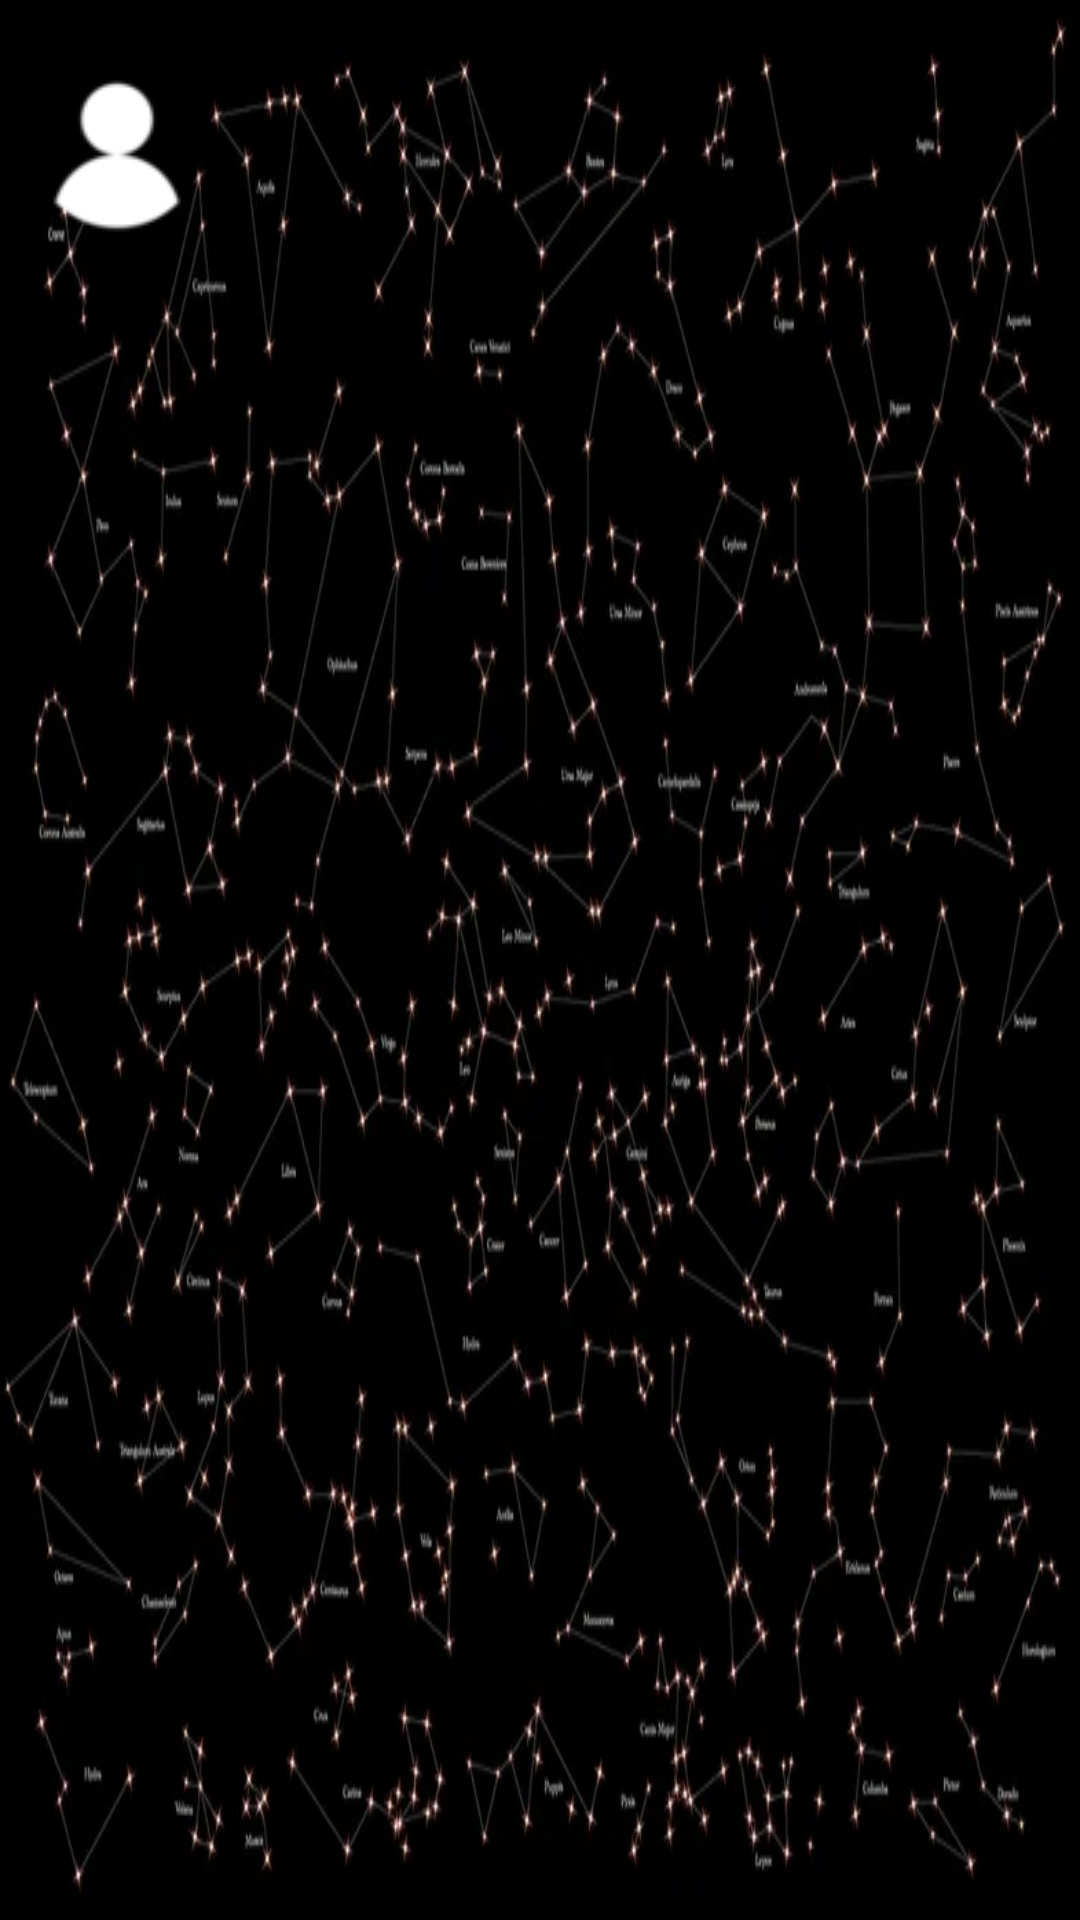

Icons on this 1080 × 1920 Android screen, each with its box as [x1=x1, y1=y1, x2=x2, y2=y2]:
profileicon: [x1=48, y1=81, x2=206, y2=234]
